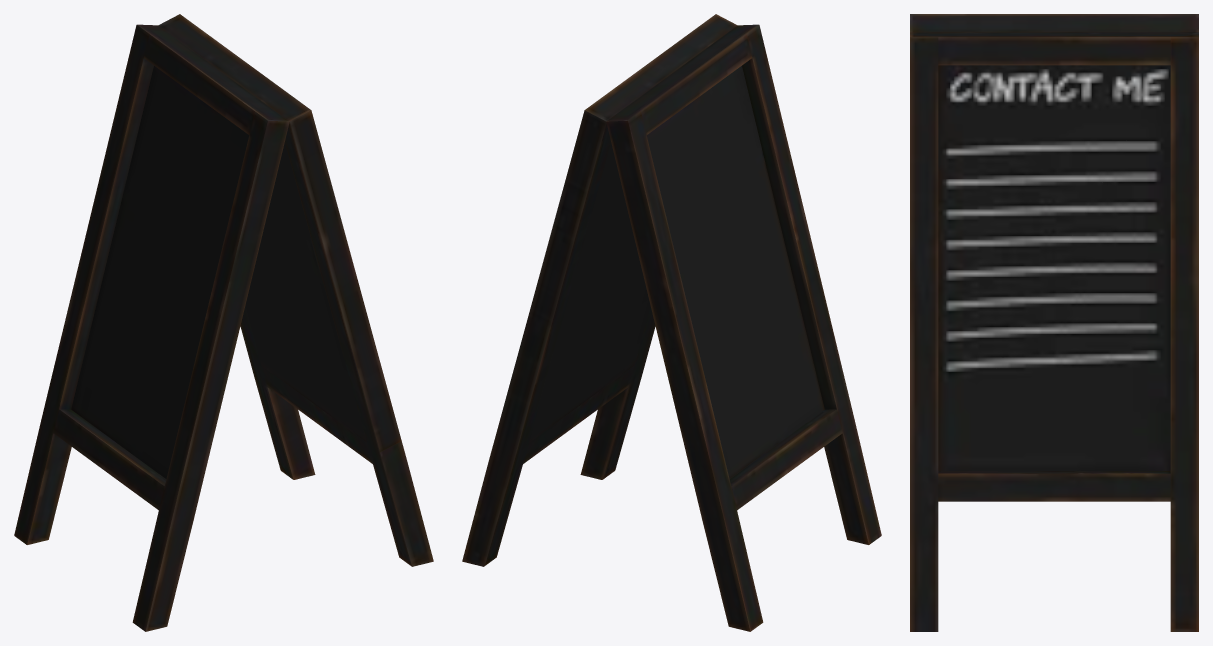
Rendered from contact_sign.glb.
3 renders of one model, left to right at view 1: azimuth 30°, elevation 25°; view 2: azimuth 150°, elevation 25°; view 3: azimuth 270°, elevation 25°, orthographic. The views are drawn at different scales.
Visible parts, largest first — view 1: defaultMaterial; view 2: defaultMaterial; view 3: defaultMaterial.
Boxes of the visible parts, box(x1,y1,x2,y2) form: defaultMaterial: box(14, 14, 433, 631); defaultMaterial: box(462, 14, 881, 631); defaultMaterial: box(910, 14, 1198, 631).
Size of the model in its own units: 71.15 by 113 by 56.18.
Materials: 1 (1 with a texture image).
